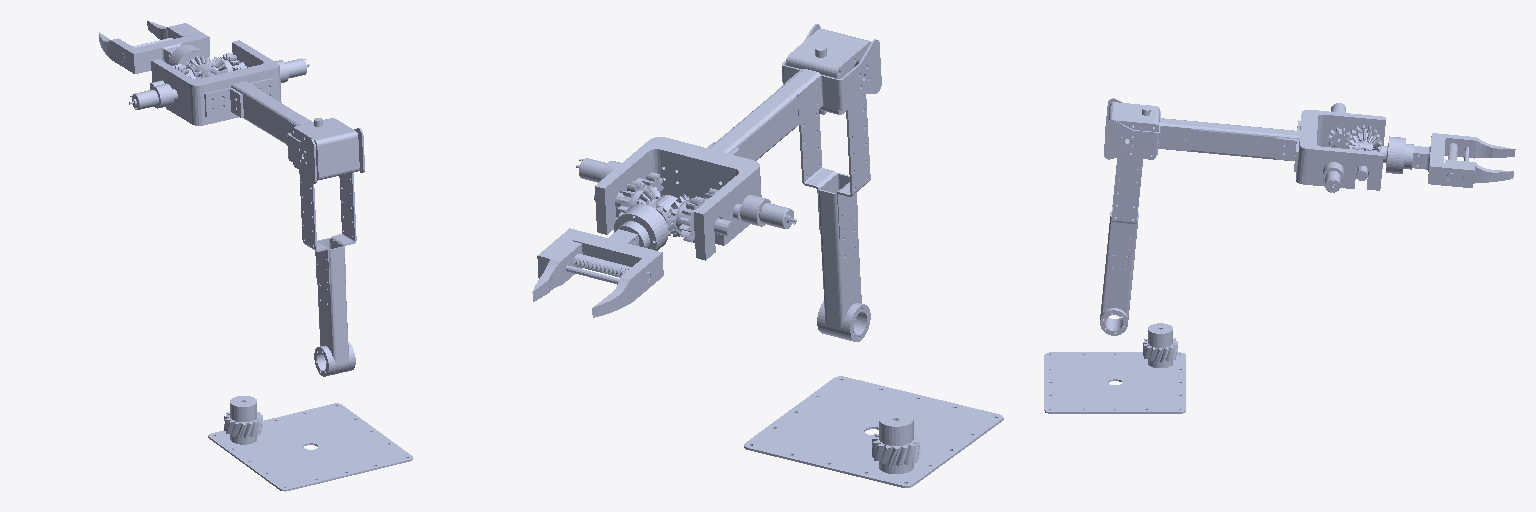
The robot description file, URDF, robot "robotic_arm_urdf":
<?xml version="1.0" encoding="utf-8"?>
<robot
  name="robotic_arm_urdf">
  <link
    name="FIxed_plate">
    <inertial>
      <origin
        xyz="-0.0355492315280312 0.0355492315289991 0.0112338689642525"
        rpy="0 0 0" />
      <mass
        value="0.325739041943602" />
      <inertia
        ixx="0.00103876978477356"
        ixy="-1.3053571776551E-05"
        ixz="-2.691250829167E-15"
        iyy="0.00103876978455108"
        iyz="-1.51723471237219E-15"
        izz="0.00194709727851448" />
    </inertial>
    <visual>
      <origin
        xyz="0 0 0"
        rpy="0 0 0" />
      <geometry>
        <mesh
          filename="package://robotic_arm_urdf/meshes/FIxed_plate.STL" />
      </geometry>
      <material
        name="">
        <color
          rgba="0.792156862745098 0.819607843137255 0.933333333333333 1" />
      </material>
    </visual>
    <collision>
      <origin
        xyz="0 0 0"
        rpy="0 0 0" />
      <geometry>
        <mesh
          filename="package://robotic_arm_urdf/meshes/FIxed_plate.STL" />
      </geometry>
    </collision>
  </link>
  <link
    name="Base">
    <inertial>
      <origin
        xyz="-0.0172615520702472 0.00173059106799278 0.0154865918208336"
        rpy="0 0 0" />
      <mass
        value="1.89486895954733" />
      <inertia
        ixx="0.00465241432181342"
        ixy="-2.39407502824797E-05"
        ixz="6.77868812842936E-05"
        iyy="0.0037837347400817"
        iyz="-1.86673448437757E-06"
        izz="0.00619989444867366" />
    </inertial>
    <visual>
      <origin
        xyz="0 0 0"
        rpy="0 0 0" />
      <geometry>
        <mesh
          filename="package://robotic_arm_urdf/meshes/Base.STL" />
      </geometry>
      <material
        name="">
        <color
          rgba="1 0.949019607843137 0.909803921568627 1" />
      </material>
    </visual>
    <collision>
      <origin
        xyz="0 0 0"
        rpy="0 0 0" />
      <geometry>
        <mesh
          filename="package://robotic_arm_urdf/meshes/Base.STL" />
      </geometry>
    </collision>
  </link>
  <joint
    name="Base_joint"
    type="revolute">
    <origin
      xyz="-0.000869195529410005 0.000774746946535121 0.0750000020000001"
      rpy="0 0 0" />
    <parent
      link="FIxed_plate" />
    <child
      link="Base" />
    <axis
      xyz="0 0 1" />
    <limit
      lower="-3.142"
      upper="3.142"
      effort="400"
      velocity="2" />
  </joint>
  <link
    name="Shoulder">
    <inertial>
      <origin
        xyz="-0.000361876829587437 0.0131423339615002 -0.146450345830128"
        rpy="0 0 0" />
      <mass
        value="0.206135703604" />
      <inertia
        ixx="0.00079815276156277"
        ixy="7.777176168602E-07"
        ixz="-1.67147456303331E-06"
        iyy="0.000754963128939768"
        iyz="5.93275242987596E-05"
        izz="9.91599788840196E-05" />
    </inertial>
    <visual>
      <origin
        xyz="0 0 0"
        rpy="0 0 0" />
      <geometry>
        <mesh
          filename="package://robotic_arm_urdf/meshes/Shoulder.STL" />
      </geometry>
      <material
        name="">
        <color
          rgba="0.792156862745098 0.819607843137255 0.933333333333333 1" />
      </material>
    </visual>
    <collision>
      <origin
        xyz="0 0 0"
        rpy="0 0 0" />
      <geometry>
        <mesh
          filename="package://robotic_arm_urdf/meshes/Shoulder.STL" />
      </geometry>
    </collision>
  </link>
  <joint
    name="Shoulder_joint"
    type="revolute">
    <origin
      xyz="0.0447197560242002 -0.00112412203816992 0.073"
      rpy="3.14159265358979 0 3.14159265358979" />
    <parent
      link="Base" />
    <child
      link="Shoulder" />
    <axis
      xyz="0.999621046089309 0.0275275174201486 0" />
    <limit
      lower="-1.571"
      upper="1.571"
      effort="300"
      velocity="2" />
  </joint>
  <link
    name="Elbow">
    <inertial>
      <origin
        xyz="-0.00615064215020011 0.231940849174271 0.0202529590171407"
        rpy="0 0 0" />
      <mass
        value="1.17007641710888" />
      <inertia
        ixx="0.00223526150496956"
        ixy="-5.45831309078493E-06"
        ixz="2.61608936726327E-06"
        iyy="0.00243240447092899"
        iyz="-9.31620990988151E-05"
        izz="0.00378658118724182" />
    </inertial>
    <visual>
      <origin
        xyz="0 0 0"
        rpy="0 0 0" />
      <geometry>
        <mesh
          filename="package://robotic_arm_urdf/meshes/Elbow.STL" />
      </geometry>
      <material
        name="">
        <color
          rgba="0.792156862745098 0.819607843137255 0.933333333333333 1" />
      </material>
    </visual>
    <collision>
      <origin
        xyz="0 0 0"
        rpy="0 0 0" />
      <geometry>
        <mesh
          filename="package://robotic_arm_urdf/meshes/Elbow.STL" />
      </geometry>
    </collision>
  </link>
  <joint
    name="Elbow_joint"
    type="revolute">
    <origin
      xyz="-0.000682341576827228 0.0247782242594574 -0.36424259554965"
      rpy="0 0 0" />
    <parent
      link="Shoulder" />
    <child
      link="Elbow" />
    <axis
      xyz="-0.999621046088342 -0.0275275174552426 0" />
    <limit
      lower="-1.571"
      upper="1.571"
      effort="200"
      velocity="2" />
  </joint>
  <link
    name="Wrist_vertical">
    <inertial>
      <origin
        xyz="-0.000382753688242476 0.0138991335099079 0.00124824590327344"
        rpy="0 0 0" />
      <mass
        value="0.23033549720499" />
      <inertia
        ixx="8.68135745703536E-05"
        ixy="-4.99648408237074E-06"
        ixz="4.64108496955296E-08"
        iyy="0.000268115770317596"
        iyz="-1.68462893405136E-06"
        izz="0.000286874484620967" />
    </inertial>
    <visual>
      <origin
        xyz="0 0 0"
        rpy="0 0 0" />
      <geometry>
        <mesh
          filename="package://robotic_arm_urdf/meshes/Wrist_vertical.STL" />
      </geometry>
      <material
        name="">
        <color
          rgba="0.792156862745098 0.819607843137255 0.933333333333333 1" />
      </material>
    </visual>
    <collision>
      <origin
        xyz="0 0 0"
        rpy="0 0 0" />
      <geometry>
        <mesh
          filename="package://robotic_arm_urdf/meshes/Wrist_vertical.STL" />
      </geometry>
    </collision>
  </link>
  <joint
    name="Wrist_vertical_joint"
    type="revolute">
    <origin
      xyz="-0.0114424125784452 0.415514271147883 0.0373162827874605"
      rpy="0 0 0" />
    <parent
      link="Elbow" />
    <child
      link="Wrist_vertical" />
    <axis
      xyz="0.999621046088342 0.0275275174552392 0" />
    <limit
      lower="-4.712"
      upper="4.712"
      effort="100"
      velocity="2" />
  </joint>
  <link
    name="Wrist_rotate">
    <inertial>
      <origin
        xyz="-0.000741681505049496 0.0790718057517934 0.00720079404598062"
        rpy="0 0 0" />
      <mass
        value="0.330165609400149" />
      <inertia
        ixx="0.000258883847986465"
        ixy="-6.52789862310991E-05"
        ixz="-6.54935620068127E-06"
        iyy="0.000587879432240242"
        iyz="-1.8698217744701E-05"
        izz="0.000766196311553194" />
    </inertial>
    <visual>
      <origin
        xyz="0 0 0"
        rpy="0 0 0" />
      <geometry>
        <mesh
          filename="package://robotic_arm_urdf/meshes/Wrist_rotate.STL" />
      </geometry>
      <material
        name="">
        <color
          rgba="0.792156862745098 0.819607843137255 0.933333333333333 1" />
      </material>
    </visual>
    <collision>
      <origin
        xyz="0 0 0"
        rpy="0 0 0" />
      <geometry>
        <mesh
          filename="package://robotic_arm_urdf/meshes/Wrist_rotate.STL" />
      </geometry>
    </collision>
  </link>
  <joint
    name="Wrist_rotate_joint"
    type="revolute">
    <origin
      xyz="-0.00137289260615669 0.0498545619559456 0.00447731175889965"
      rpy="0 0 0" />
    <parent
      link="Wrist_vertical" />
    <child
      link="Wrist_rotate" />
    <axis
      xyz="0.0274172576374139 -0.995617124026799 -0.0894138486379424" />
    <limit
      lower="-3.142"
      upper="3.142"
      effort="100"
      velocity="2" />
  </joint>
  <link
    name="Gripper">
    <inertial>
      <origin
        xyz="0.00811651980572647 0.032809174371621 -0.00384137153551856"
        rpy="0 0 0" />
      <mass
        value="0.0388186179630637" />
      <inertia
        ixx="3.52038934993049E-05"
        ixy="-8.52223366530065E-08"
        ixz="1.40714485359173E-08"
        iyy="4.65934304491522E-06"
        iyz="3.59587138438163E-06"
        izz="3.18621067774847E-05" />
    </inertial>
    <visual>
      <origin
        xyz="0 0 0"
        rpy="0 0 0" />
      <geometry>
        <mesh
          filename="package://robotic_arm_urdf/meshes/Gripper.STL" />
      </geometry>
      <material
        name="">
        <color
          rgba="0.792156862745098 0.819607843137255 0.933333333333333 1" />
      </material>
    </visual>
    <collision>
      <origin
        xyz="0 0 0"
        rpy="0 0 0" />
      <geometry>
        <mesh
          filename="package://robotic_arm_urdf/meshes/Gripper.STL" />
      </geometry>
    </collision>
  </link>
  <joint
    name="Gripper_joint"
    type="prismatic">
    <origin
      xyz="-0.037934092087304 0.106065377723266 0.00961198872859703"
      rpy="3.14159265358979 0 3.14159265358979" />
    <parent
      link="Wrist_rotate" />
    <child
      link="Gripper" />
    <axis
      xyz="-0.999621046088342 0.0275275174552392 0" />
    <limit
      lower="0"
      upper="0.09"
      effort="50"
      velocity="0.06" />
  </joint>
</robot>

--- Facts derived from the render (not from the file) ---
The picture shows the robot from 3 angles, left to right: view 1: azimuth 30°, elevation 25°; view 2: azimuth 150°, elevation 25°; view 3: azimuth 270°, elevation 25°; orthographic projection.
Model robotic_arm_urdf with 7 links and 6 joints (5 revolute, 1 prismatic), rooted at FIxed_plate, posed every joint at zero.
Visible links, largest first — view 1: Elbow, FIxed_plate, Shoulder, Wrist_rotate, Wrist_vertical; view 2: Elbow, FIxed_plate, Shoulder, Wrist_rotate, Wrist_vertical, Gripper; view 3: Elbow, FIxed_plate, Shoulder, Wrist_rotate, Wrist_vertical, Gripper.
Link boxes in pixels (x1,y1,x2,y2): Elbow: (129, 40, 364, 183); FIxed_plate: (208, 396, 412, 491); Shoulder: (291, 118, 359, 376); Wrist_rotate: (99, 23, 209, 73); Wrist_vertical: (150, 47, 244, 88); Elbow: (576, 24, 881, 260); FIxed_plate: (744, 376, 1003, 487); Shoulder: (786, 28, 870, 341); Wrist_rotate: (537, 209, 663, 317); Wrist_vertical: (594, 181, 734, 247); Gripper: (532, 241, 582, 301); Elbow: (1104, 98, 1385, 192); FIxed_plate: (1044, 323, 1185, 413); Shoulder: (1100, 102, 1159, 335); Wrist_rotate: (1394, 133, 1515, 187); Wrist_vertical: (1348, 125, 1397, 180); Gripper: (1445, 159, 1513, 183).
Bounding box of the posed robot: 0.3438 × 0.8326 × 0.5682 m (x, y, z).
Meshes: 7 distinct files referenced, 6 mesh visuals loaded (6 binary STL); not drawn: 1 (reference not matched to a file when rendering).
